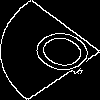O: (25, 25, 100, 85)
